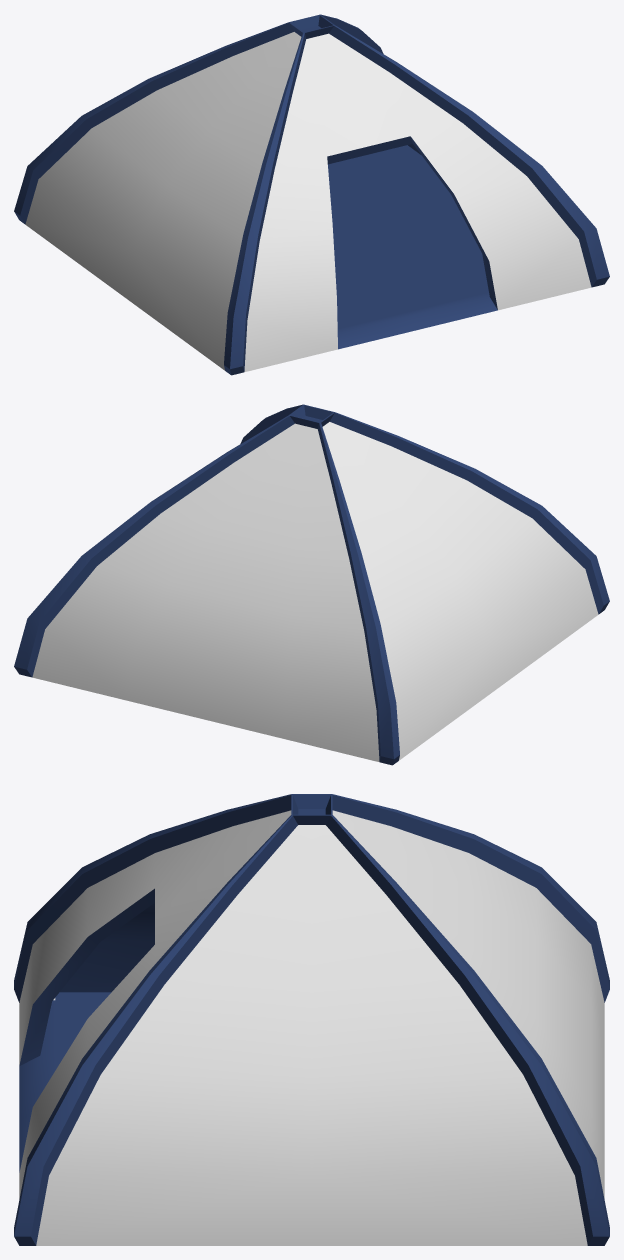
Rendered from Carpa.fbx.
3 views of the same model, one above another, from view 1: azimuth 30°, elevation 25°; view 2: azimuth 150°, elevation 25°; view 3: azimuth 270°, elevation 25° (orthographic). The views are drawn at different scales.
Visible parts, largest first — view 1: Plane; view 2: Plane; view 3: Plane.
Boxes of the visible parts, x1,y1,x2,y2 form: Plane: (14,14,609,375); Plane: (14,404,609,765); Plane: (14,794,609,1245).
Bounding box in the file's own units: 857 × 492 × 843.
